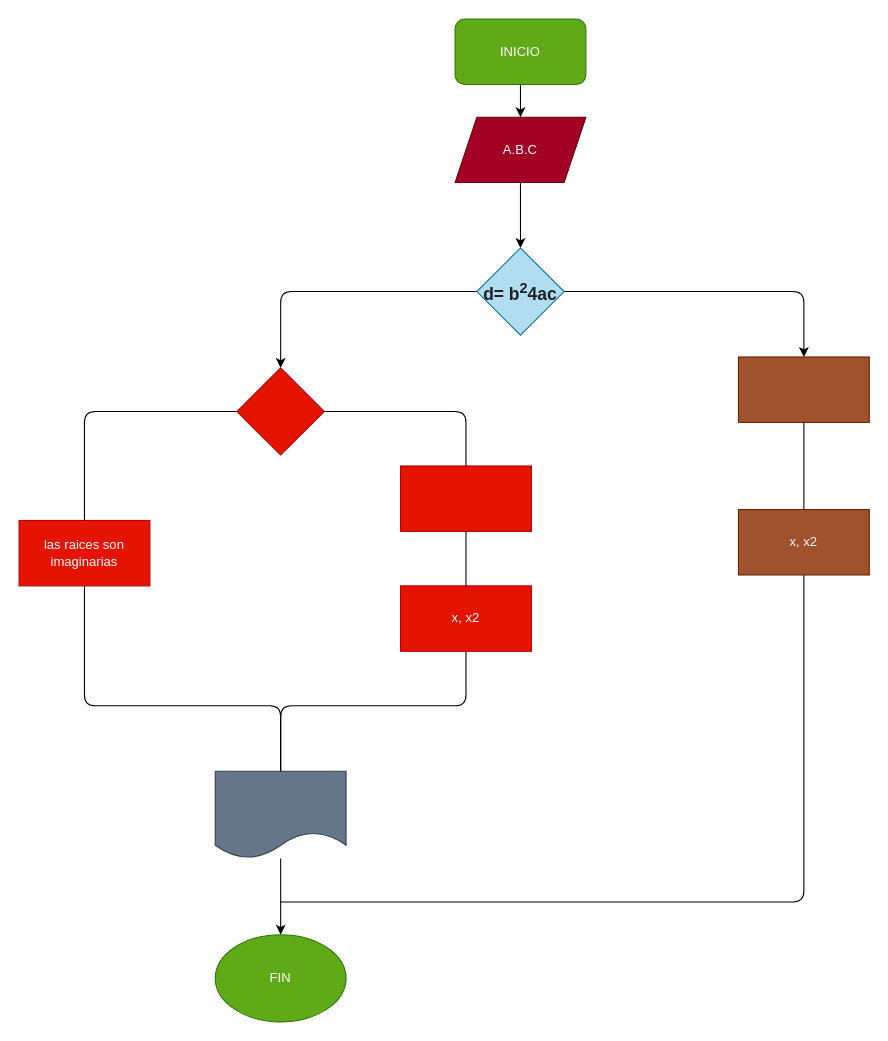
Image size: 888x1041. Some labels were removed from this diagram. The box of each missing label's shape, as (x1, y1, x2, y2) in pixels:
d == 0: (236, 367, 324, 455)
x1 = b/2a x2 = x: (737, 356, 869, 422)
x1,x2: (214, 770, 346, 858)
x= -b+ √d/2a x2= -b+ √d/2a: (399, 465, 531, 531)
